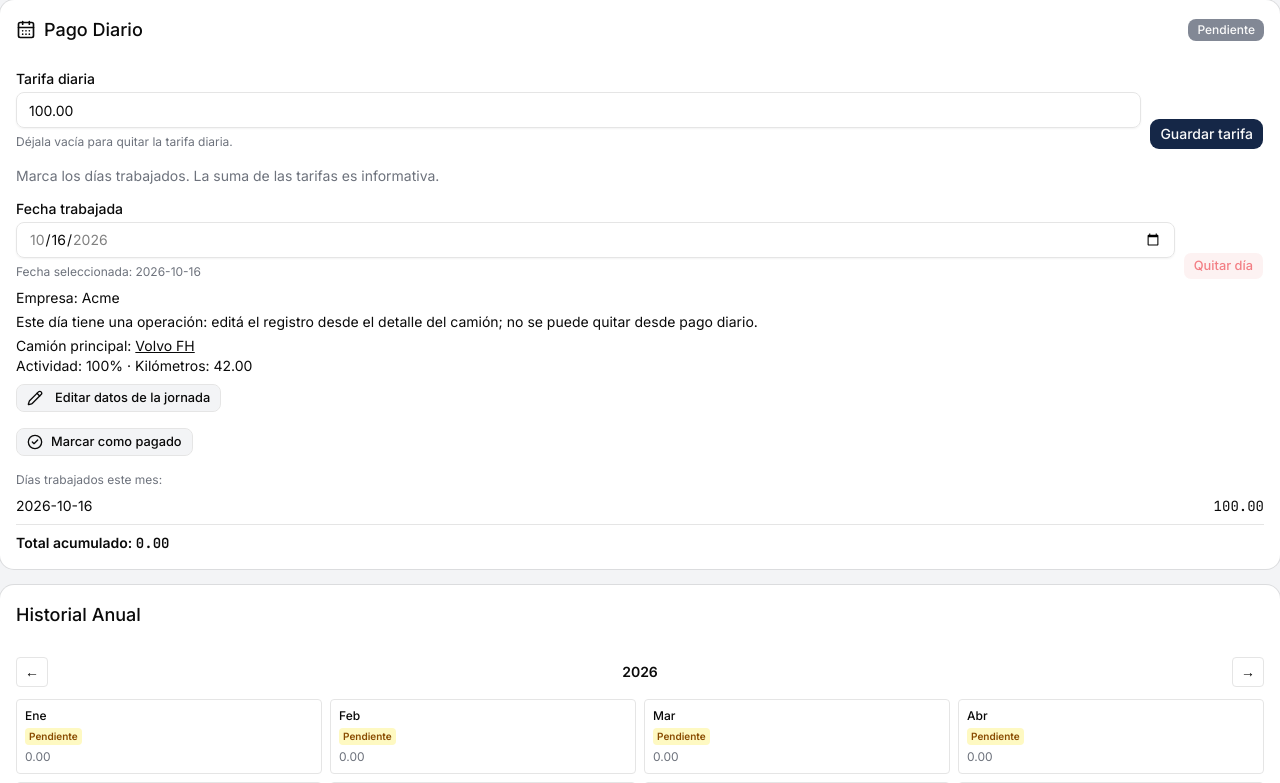
it: DailyPayPanel › reloads the selected day after saving without displaying stale company details
The width and height of the screenshot is (1280, 783).
Expected: the text "Acme" is shown, [82,289,120,306]
Click the button "Editar datos de la jornada" at [119, 398], box [16,384,221,412]
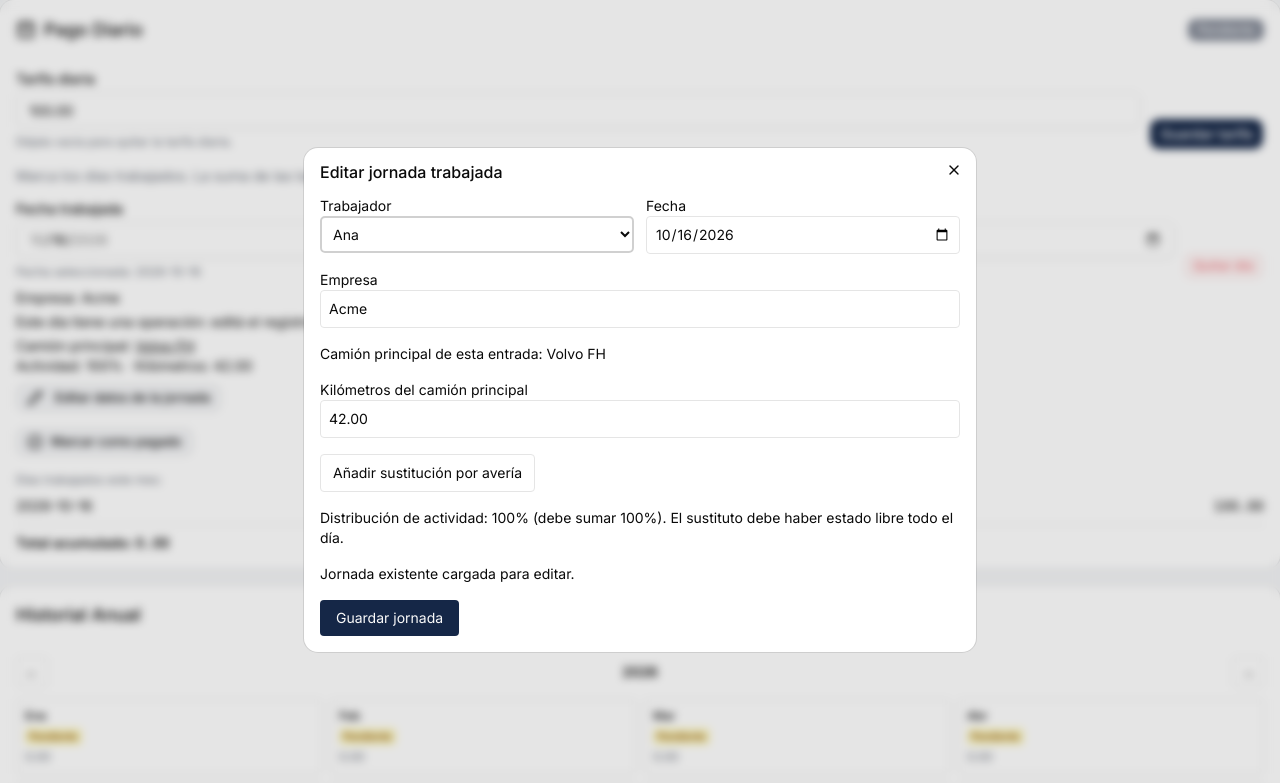
Expected: the dialog is shown, [304,148,976,652]
Replace the text in the field labelled "Empresa" with "Nueva empresa" at [640, 309], box [320,290,960,328]
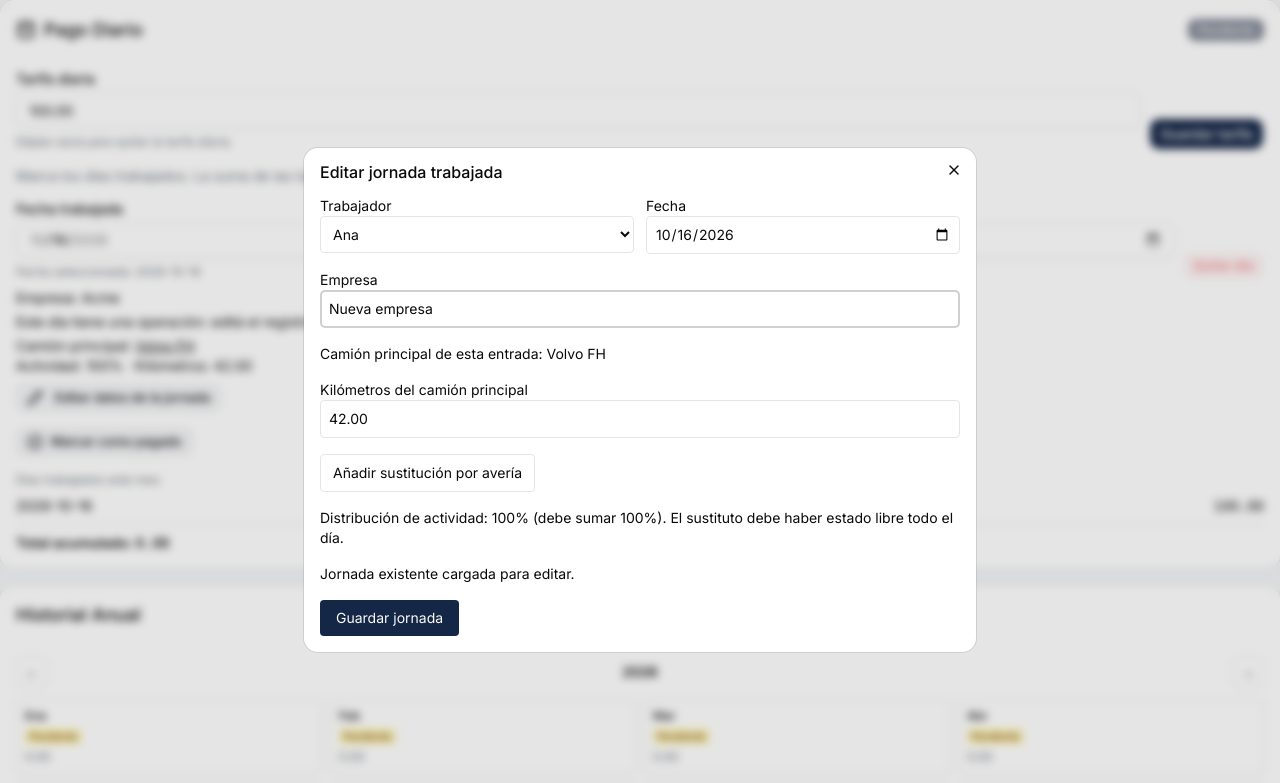
Click the button "Guardar jornada" at [390, 618], box [320,600,459,636]
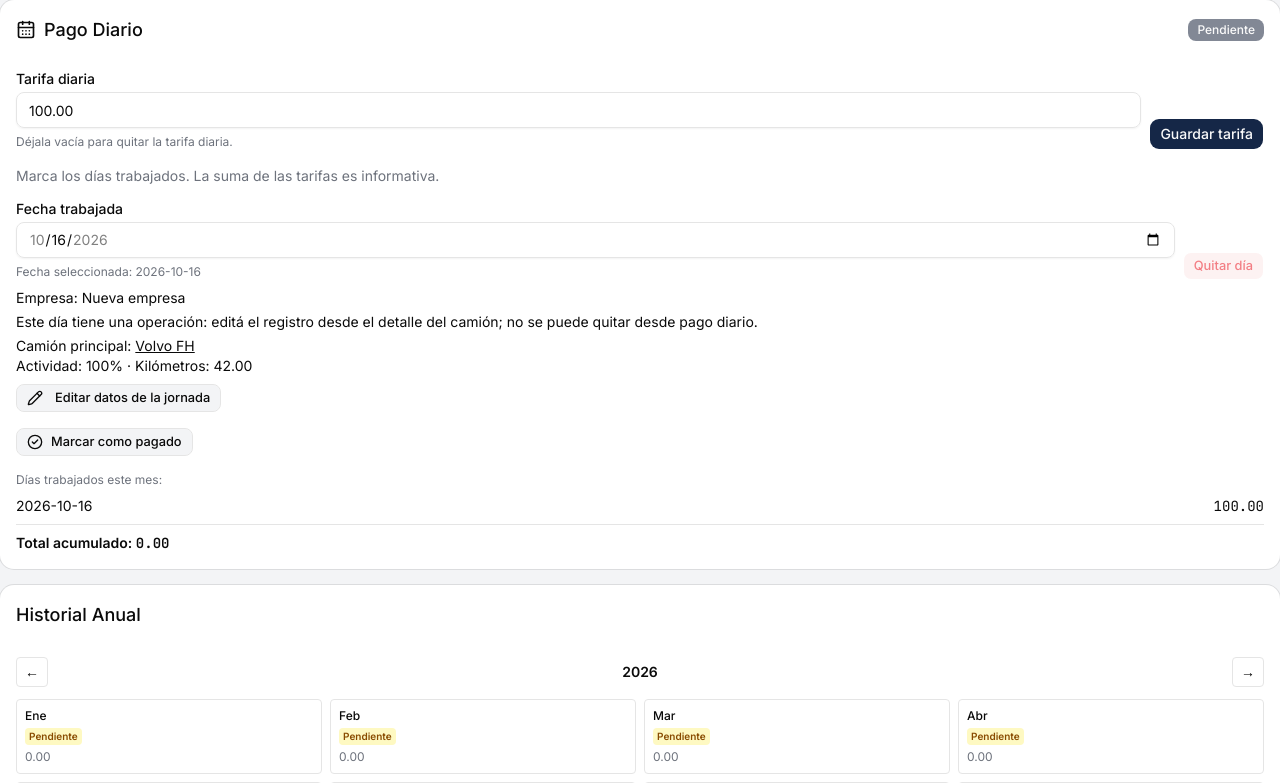
Expected: the text "Nueva empresa" is shown, [82,289,186,306]
Expected: the text "Acme" is gone
